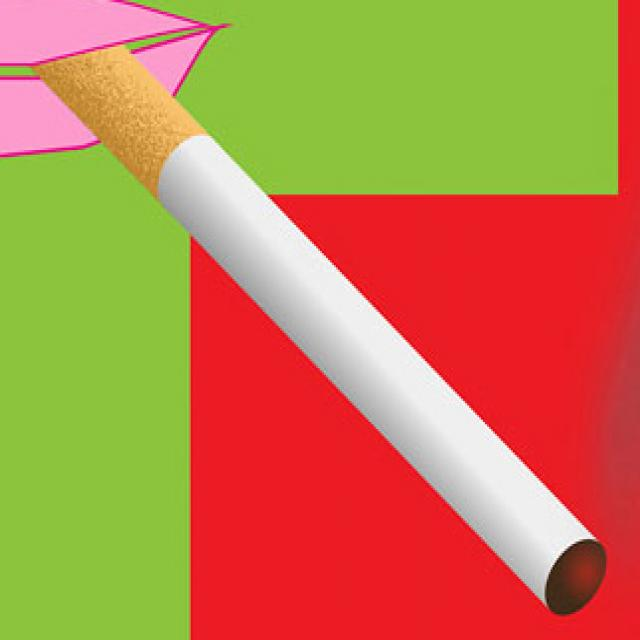cigarette: (24, 43, 616, 621)
